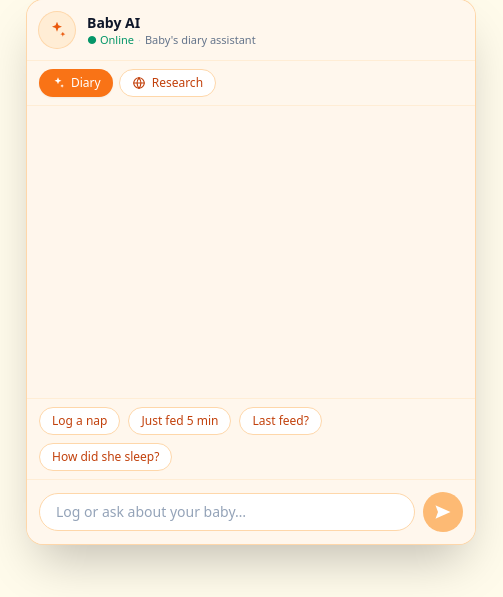
ChatPanel — clarification › renders the clarification question, no section invalidation, input retains focus
Type "I fed the baby" into the text box named "message".
click(227, 512); type("I fed the baby")  # box x1=39 y1=493 x2=415 y2=531
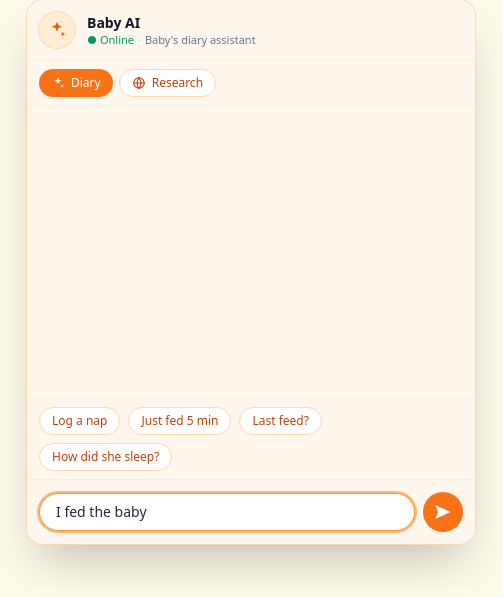
Click the button named "send".
click(443, 512)  # box x1=423 y1=492 x2=463 y2=532
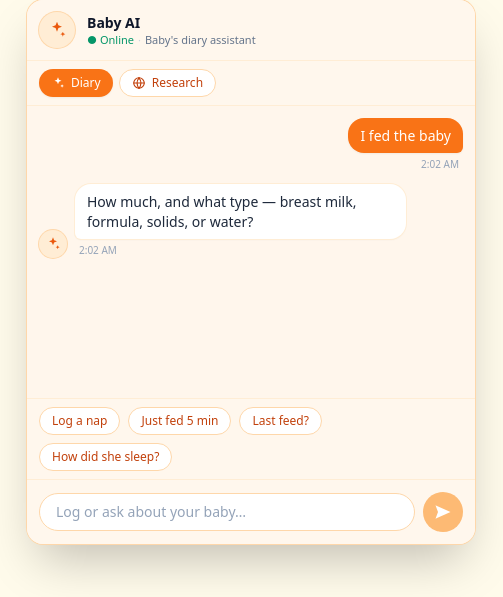
expect the text "How much, and what type" is shown: met, box x1=87 y1=192 x2=360 y2=231
